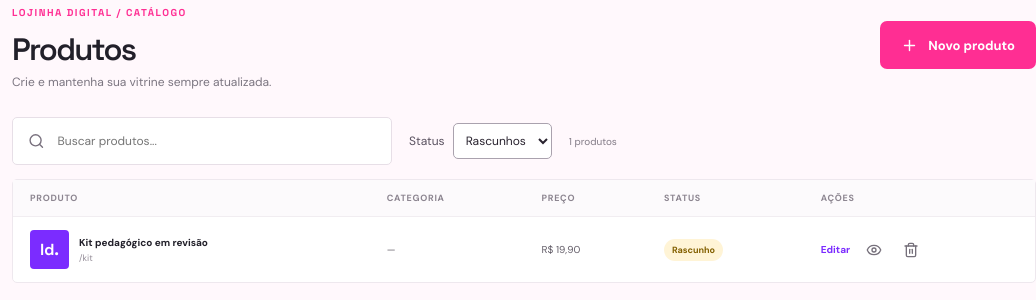
filtro administrativo por status › abre diretamente nos rascunhos sem alterar status de produtos
Expected: the text "Kit pedagógico em revisão" is shown, 79,236 -> 208,248
Expected: the text "Livro Hotmart publicado" is not shown
Select "Publicados" in the dropdown named "Status dos produtos". click: (502, 141)
box: 453,123 -> 552,159
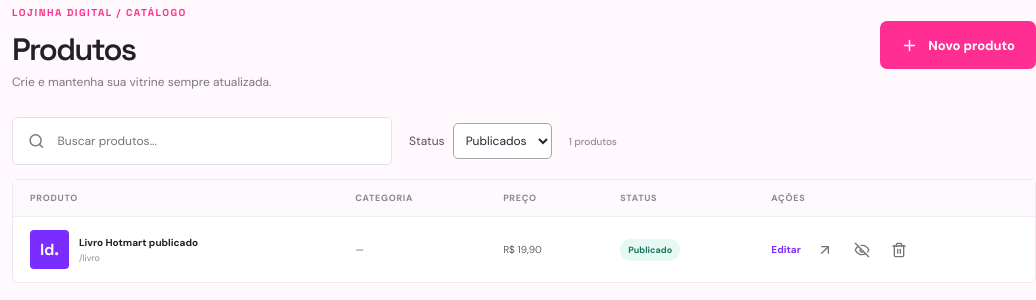
Expected: the text "Livro Hotmart publicado" is shown, 79,236 -> 198,248
Expected: the text "Kit pedagógico em revisão" is gone
